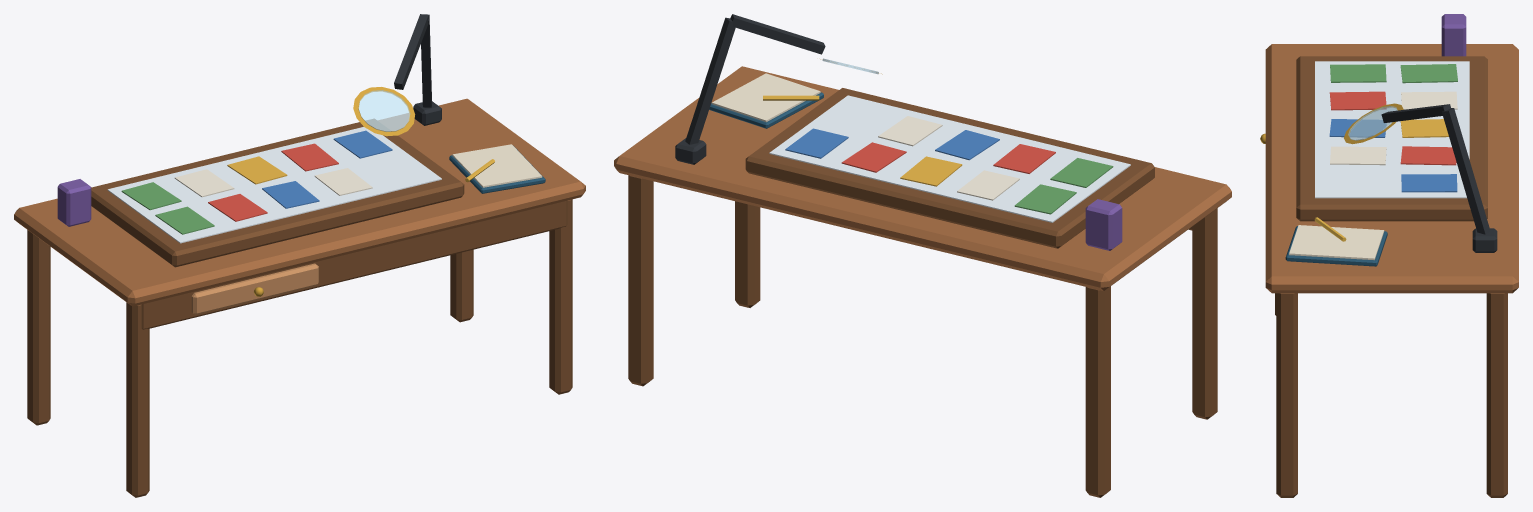
Rendered from light_box.glb.
3 renders of one model, left to right at view 1: azimuth 30°, elevation 25°; view 2: azimuth 150°, elevation 25°; view 3: azimuth 270°, elevation 25°, orthographic. The views are drawn at different scales.
Visible parts, largest first — view 1: light_box; view 2: light_box; view 3: light_box.
Boxes of the visible parts, x1,y1,x2,y2 form: light_box: (14,14,585,497); light_box: (614,14,1231,497); light_box: (1260,14,1518,497).
Bounding box in the file's own units: 1.82 × 1.28 × 0.838.
